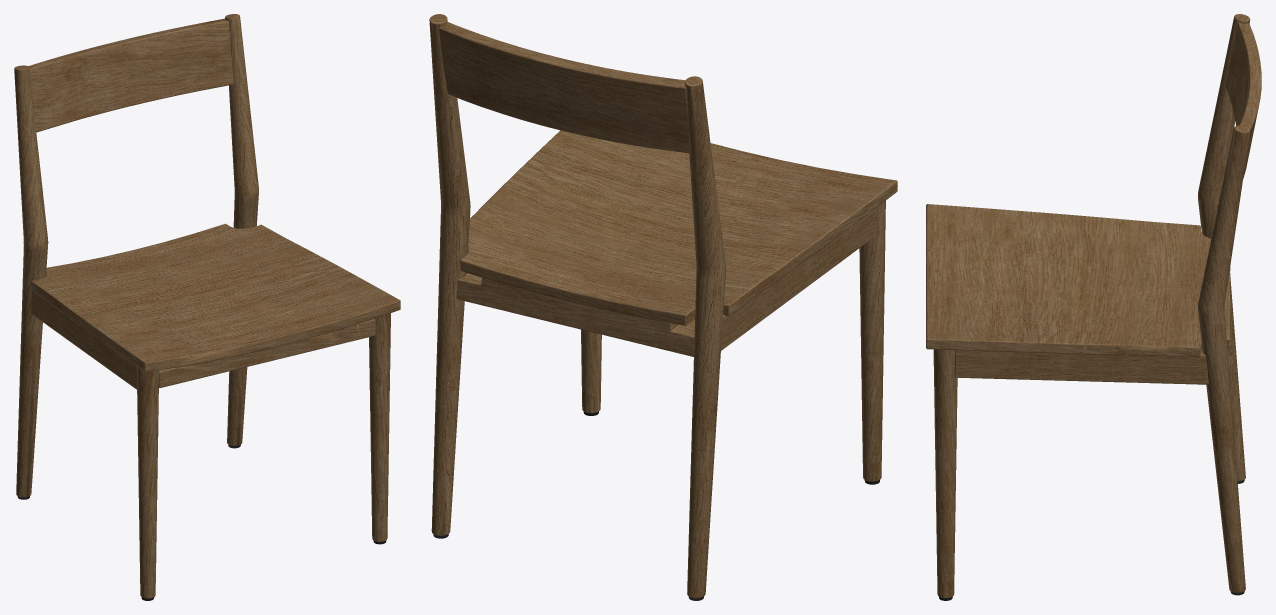
3 renders of one model, left to right at view 1: azimuth 30°, elevation 25°; view 2: azimuth 150°, elevation 25°; view 3: azimuth 270°, elevation 25°, orthographic. The views are drawn at different scales.
Parts seen in each view (by area): view 1: head; view 2: head; view 3: head.
Part boxes in pixels (bbox=[...]): head: bbox=[14, 14, 400, 598]; head: bbox=[429, 14, 897, 598]; head: bbox=[926, 14, 1261, 598].
Bounding box in the file's own units: 0.6836 × 1.09 × 0.7157.
2 materials, 2 textured.
